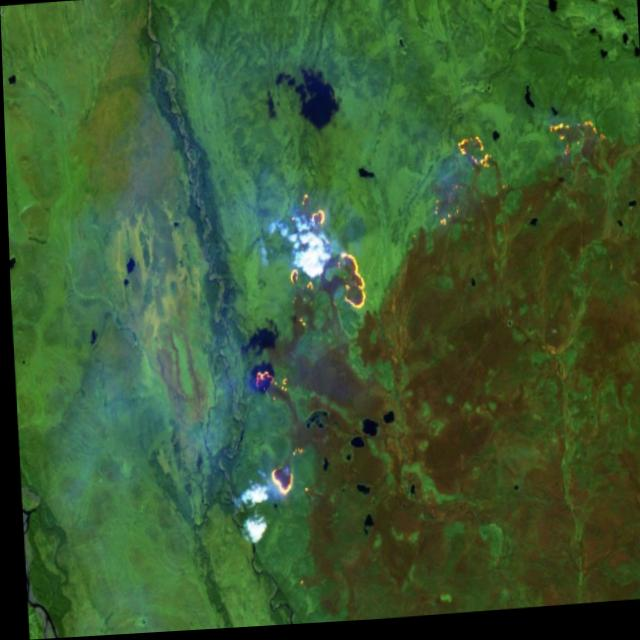fire: (277, 183, 373, 341), (538, 108, 614, 183), (443, 123, 500, 197), (255, 458, 293, 519), (247, 363, 289, 416)
